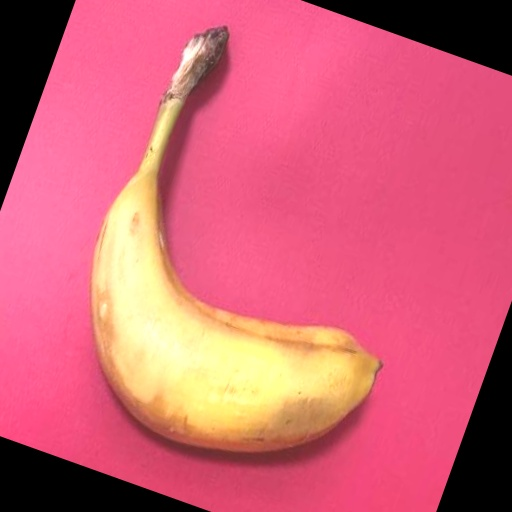fruit: (0, 79, 217, 469)
